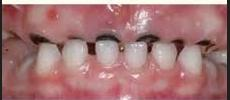Caries: (93, 28, 122, 46), (27, 31, 54, 48), (197, 35, 217, 53), (137, 31, 160, 46), (169, 37, 187, 50)
